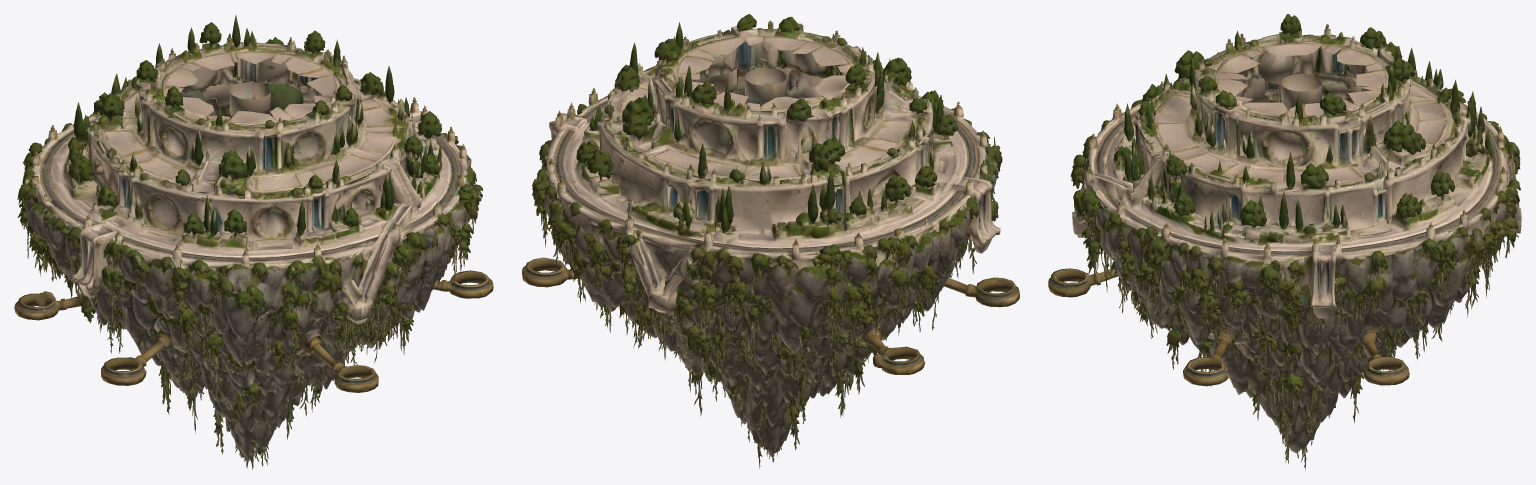
File: island-base.glb
The picture shows the model from 3 angles, left to right: view 1: azimuth 30°, elevation 25°; view 2: azimuth 150°, elevation 25°; view 3: azimuth 270°, elevation 25°; orthographic projection. The views are drawn at different scales.
Parts seen in each view (by area): view 1: Island_Terrain; view 2: Island_Terrain; view 3: Island_Terrain.
Boxes of the visible parts, x1=… form: Island_Terrain: x1=14, y1=15, x2=493, y2=469; Island_Terrain: x1=522, y1=14, x2=1019, y2=469; Island_Terrain: x1=1048, y1=14, x2=1521, y2=470.
Bounding box in the file's own units: 1.78 × 1.8 × 1.82.
1 material, 1 textured.
